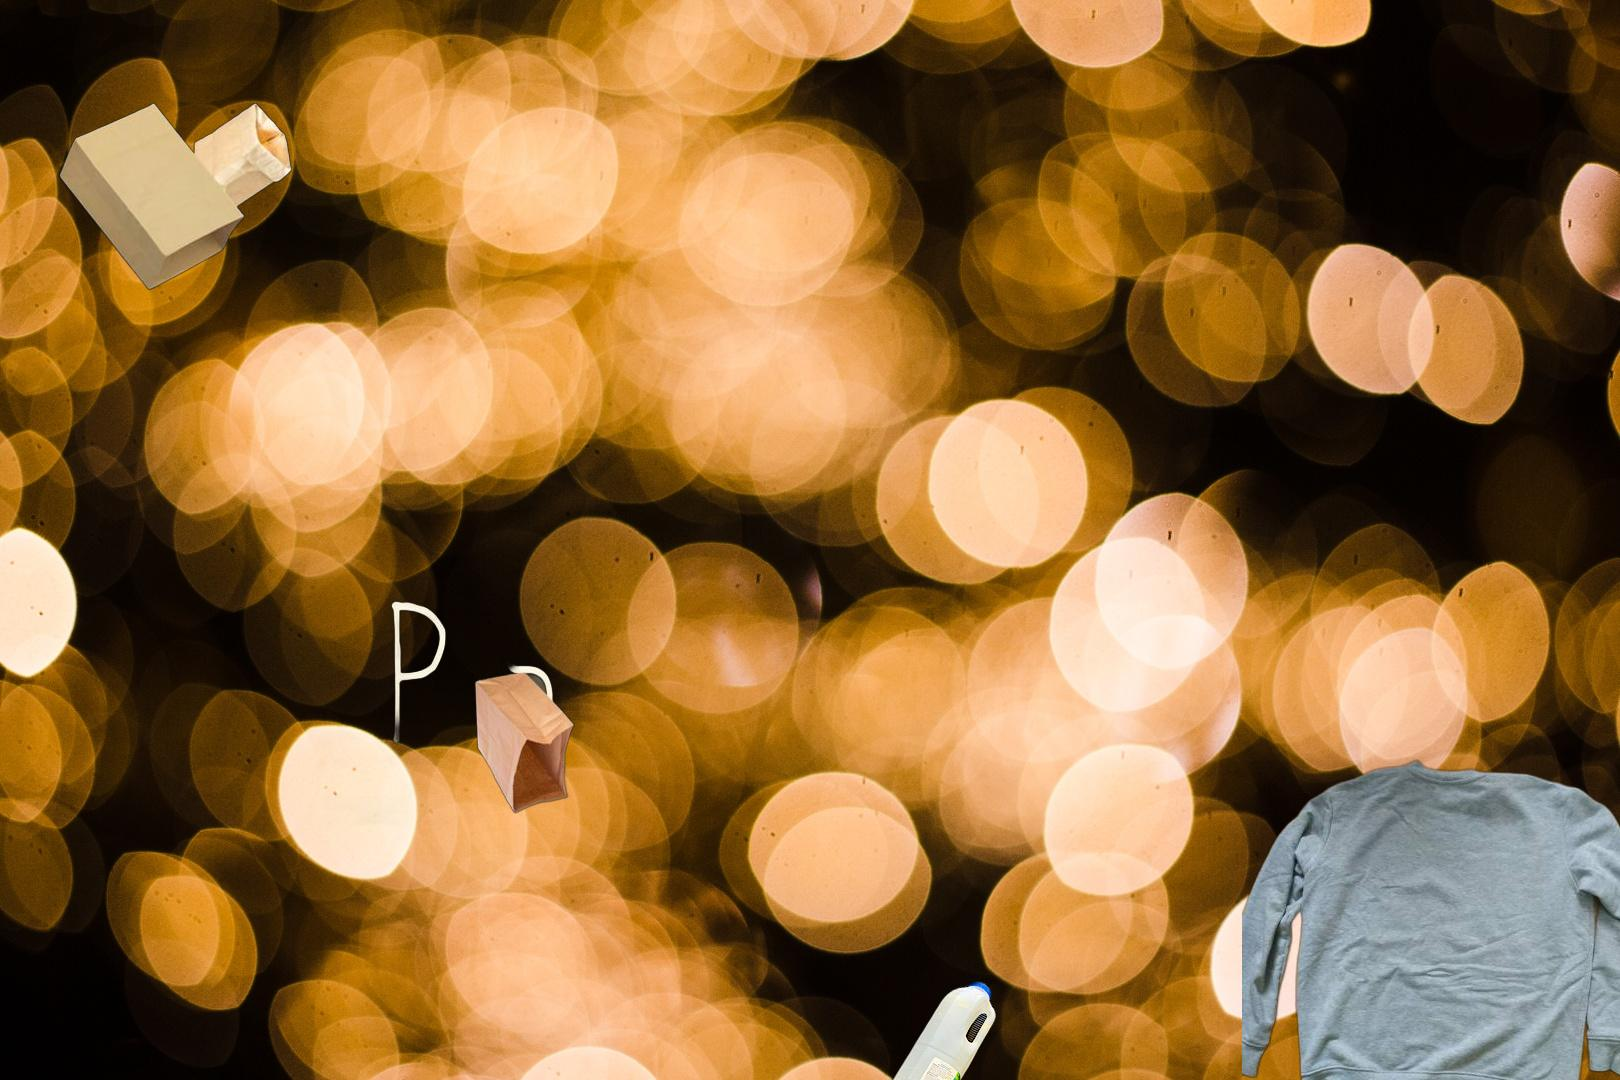clothes: (1242, 757, 1620, 1080)
paper-bag: (304, 595, 576, 838), (55, 100, 293, 293)
plastic-bottles: (879, 976, 1000, 1080)
